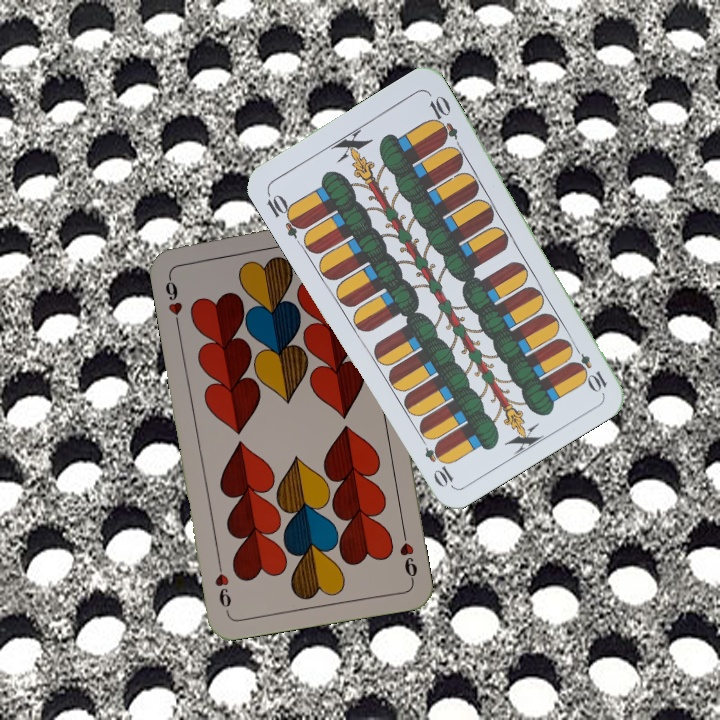E10: (262, 187, 308, 241), (567, 340, 610, 394)
H9: (395, 525, 420, 584), (161, 270, 185, 329)
